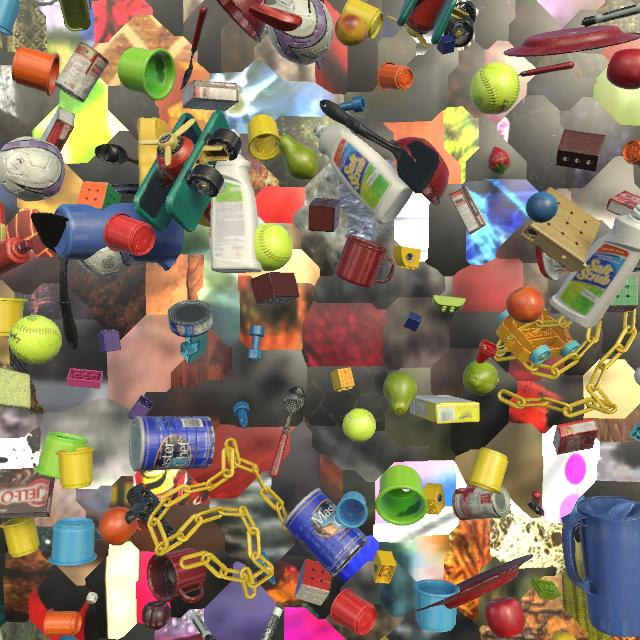ycb_002_master_chef_can: (283, 488, 369, 577), (129, 416, 215, 471)
ycb_004_sugar_box: (410, 395, 480, 424)
ycb_005_tomato_soup_can: (55, 42, 109, 103), (452, 485, 511, 521), (0, 518, 4, 525)
ycb_006_mustard_bottle: (137, 118, 169, 187)
ycb_007_tuna_fish_can: (167, 300, 213, 338)
ycb_008_pudding_box: (0, 468, 55, 518), (449, 186, 486, 235), (182, 80, 239, 111), (41, 106, 75, 152)
ycb_009_gelatin_box: (553, 418, 598, 455), (606, 190, 640, 216)
ycb_010_potted_meat_can: (59, 0, 92, 31)
ycb_012_strawberry: (488, 147, 511, 175)
ycb_013_apple: (484, 597, 525, 638), (606, 48, 640, 90)
ycb_014_lemon: (551, 630, 576, 640)
ycb_015_peach: (335, 13, 368, 47)
ycb_016_pear: (278, 134, 319, 180), (383, 371, 417, 415), (463, 361, 498, 395)
ycb_017_orange: (99, 507, 138, 546), (506, 286, 545, 323)
ycb_018_plum: (142, 601, 171, 631)
